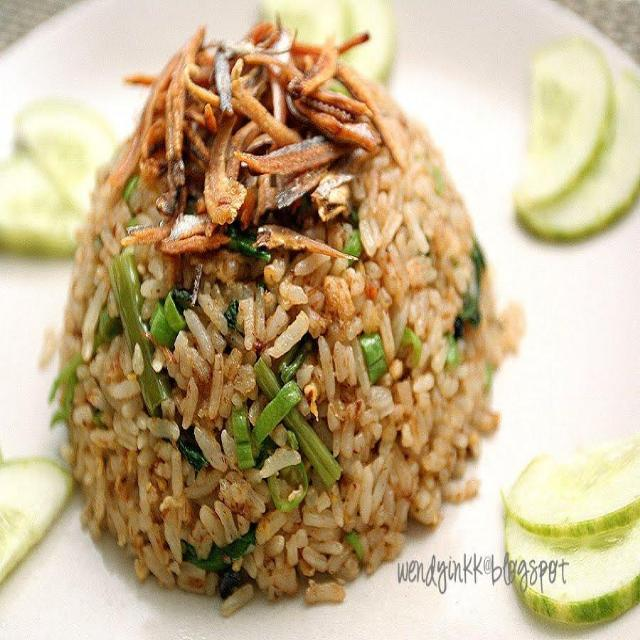Nasi Goreng: (50, 15, 517, 615)
